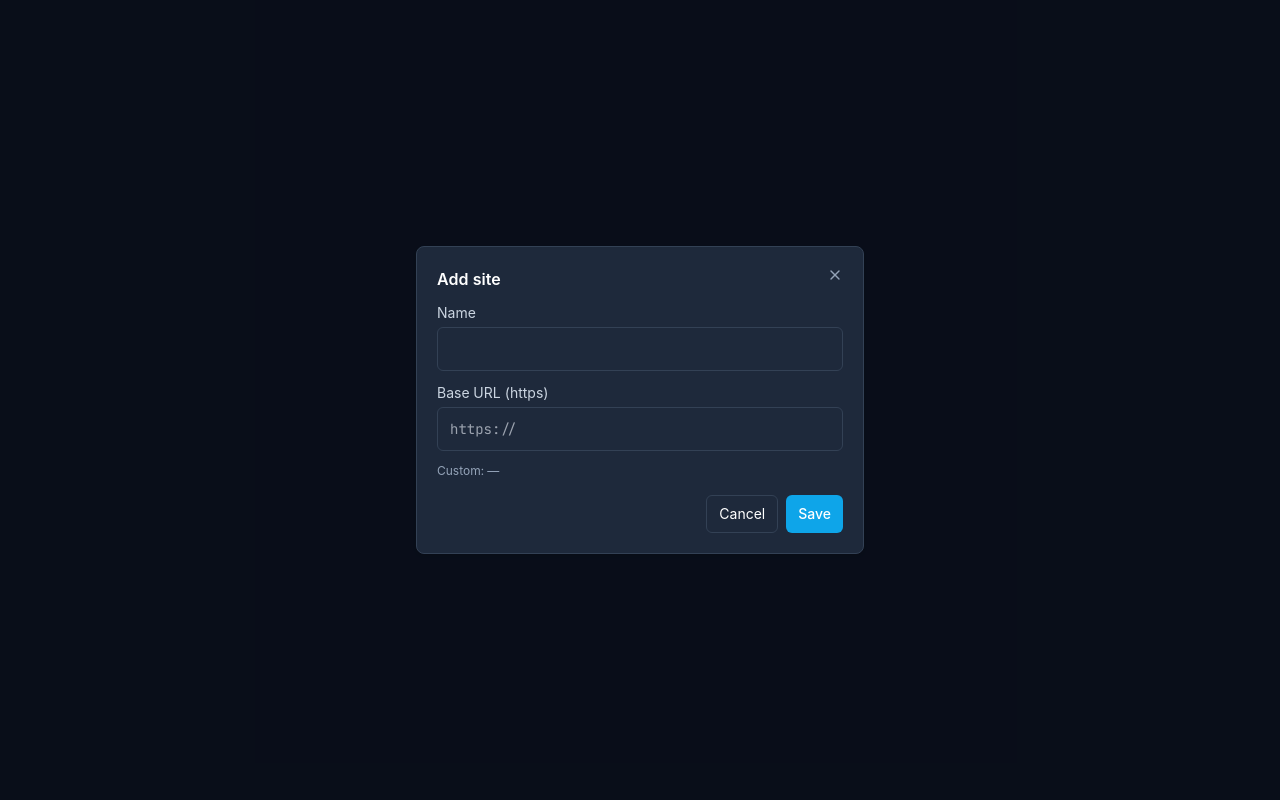
F84 AddSiteQuick normalisation › bare domain normalises to https:// on blur with the visible hint
Type "openculture.com" into the field with test id "add-site-url".
click(640, 429); type("openculture.com")  # box x1=437 y1=407 x2=843 y2=451
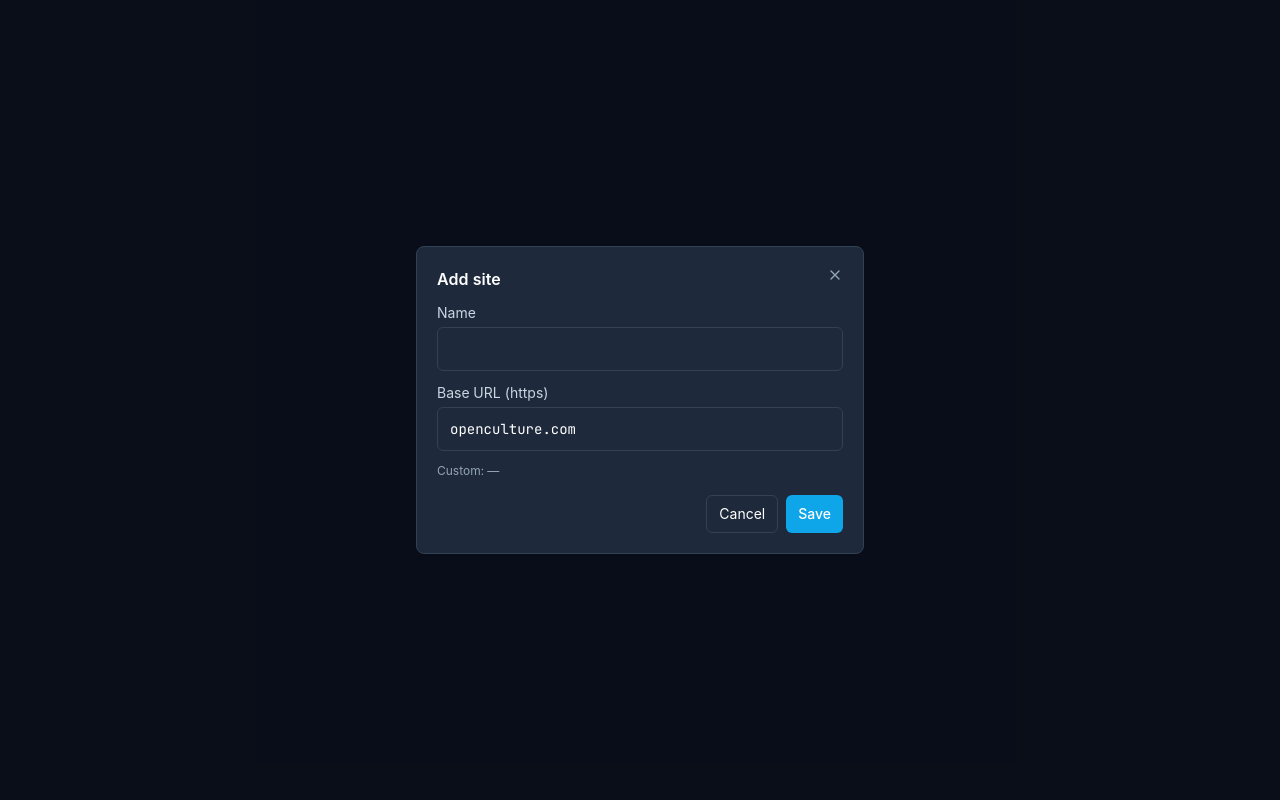
Leave the field with test id "add-site-url", box x1=437 y1=407 x2=843 y2=451
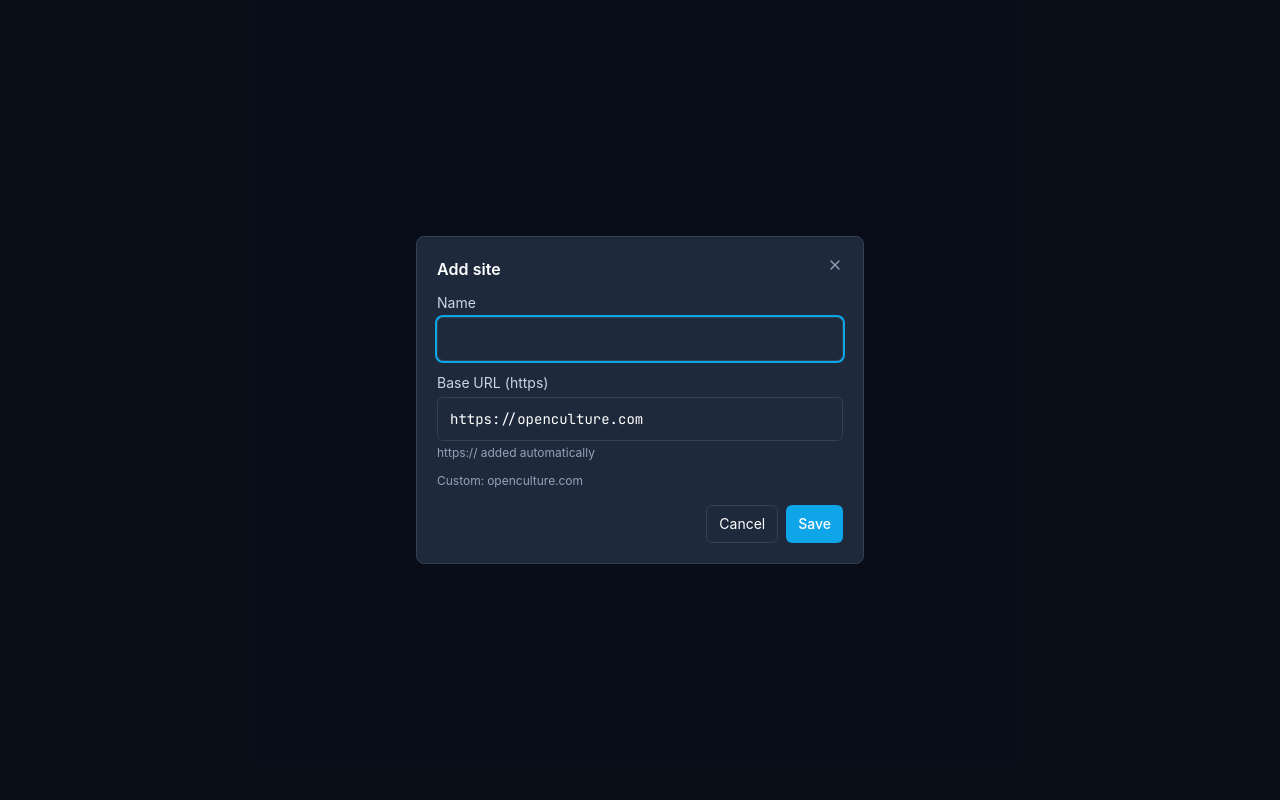
Result: the field with test id "add-site-url" holds "https://openculture.com" at x1=437 y1=397 x2=843 y2=441
Result: the text "https:// added automatically" is shown at x1=437 y1=445 x2=595 y2=460
